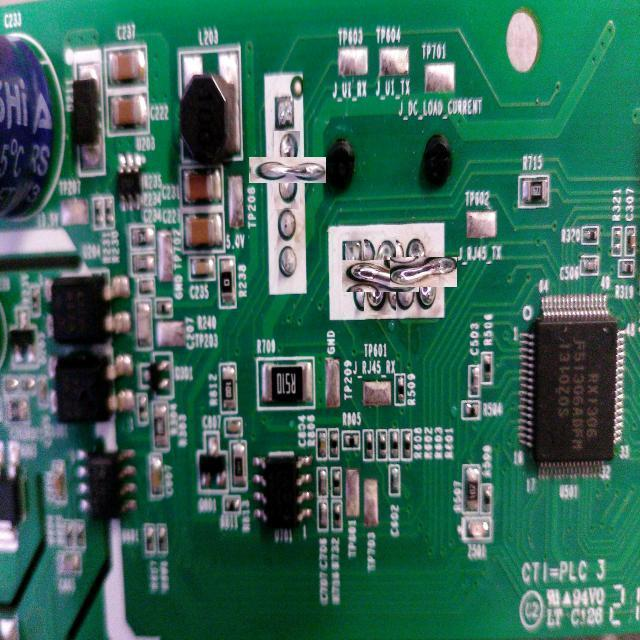Short_circuit: (353, 248, 407, 304), (261, 144, 313, 197), (398, 248, 448, 296)
